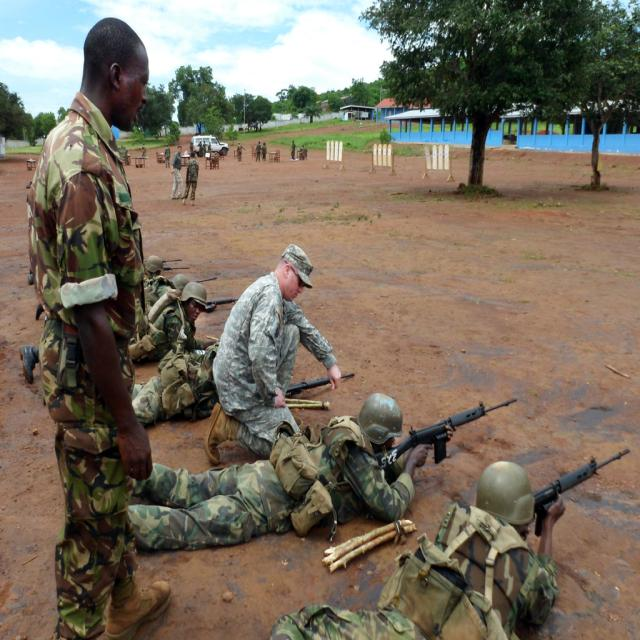Weapon: (483, 412, 629, 554), (364, 418, 538, 478), (186, 286, 278, 327)
